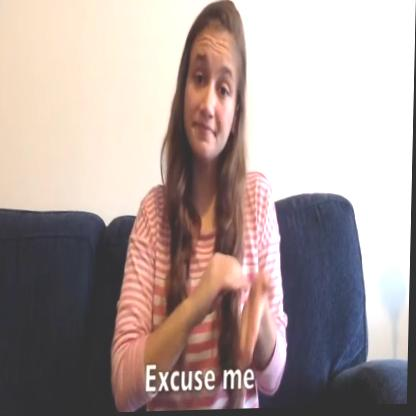ExcuseMe: (200, 243, 279, 361)
